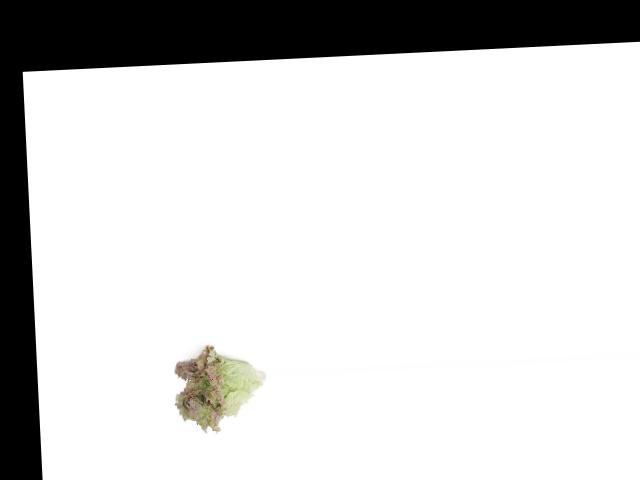lettuce: (160, 334, 270, 438)
